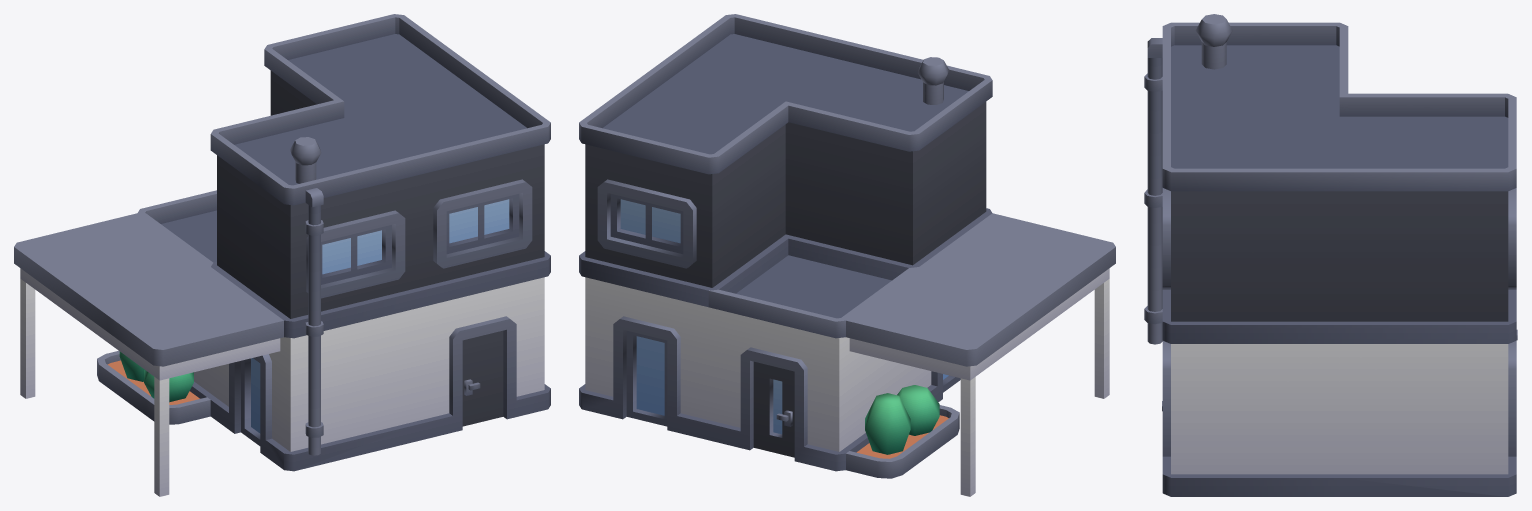
The model's file is house_suburb_q.glb.
The picture shows the model from 3 angles, left to right: view 1: azimuth 30°, elevation 25°; view 2: azimuth 150°, elevation 25°; view 3: azimuth 270°, elevation 25°; orthographic projection. The views are drawn at different scales.
Parts seen in each view (by area): view 1: building-type-q; view 2: building-type-q; view 3: building-type-q.
Part boxes in pixels (x1,y1,x2,y2): building-type-q: [14, 14, 550, 496]; building-type-q: [579, 14, 1115, 496]; building-type-q: [1144, 14, 1517, 496].
Bounding box in the file's own units: 1.24 × 0.918 × 0.8856.
1 material, 1 textured.
